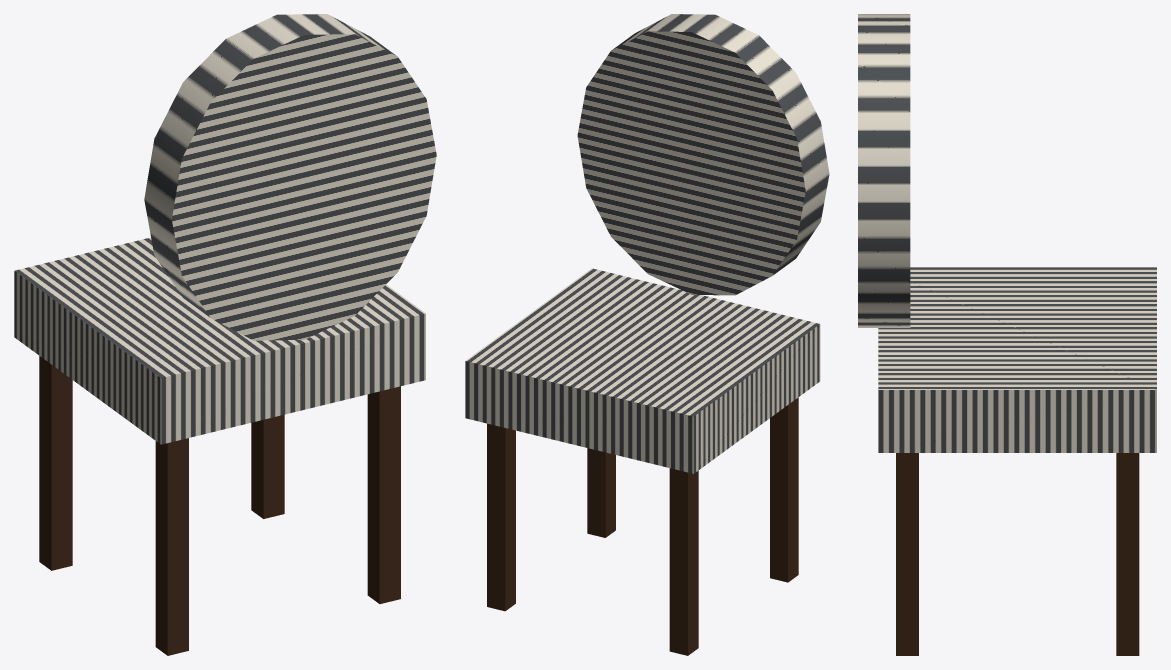
The model's file is chair-striped.glb.
3 views of the same model, side by side, from view 1: azimuth 30°, elevation 25°; view 2: azimuth 150°, elevation 25°; view 3: azimuth 270°, elevation 25° (orthographic). The views are drawn at different scales.
Parts seen in each view (by area): view 1: chair-striped; view 2: chair-striped; view 3: chair-striped.
Part boxes in pixels (x1=…): chair-striped: x1=14, y1=14, x2=436, y2=655; chair-striped: x1=465, y1=14, x2=829, y2=655; chair-striped: x1=858, y1=14, x2=1156, y2=655.
Size of the model in its own units: 0.5 by 1.1 by 0.515.
2 materials, 1 textured.
